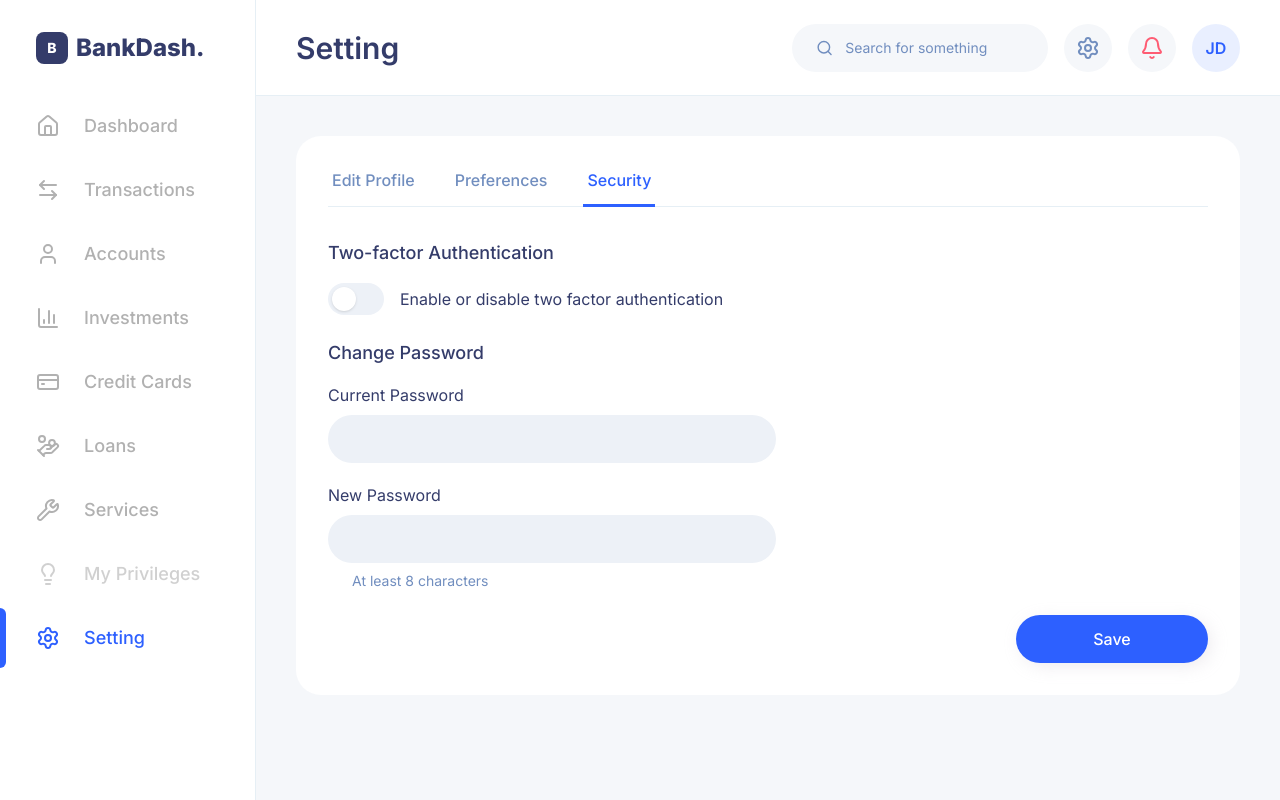
Test case: Settings › Security › saves the two-factor flag and reloads the user
This screenshot has width=1280, height=800.
What coordinates should you click on to do the following:
click the switch named "Enable or disable two factor authentication"
I would click on:
 (356, 299)
Its box is [328,283,384,315].
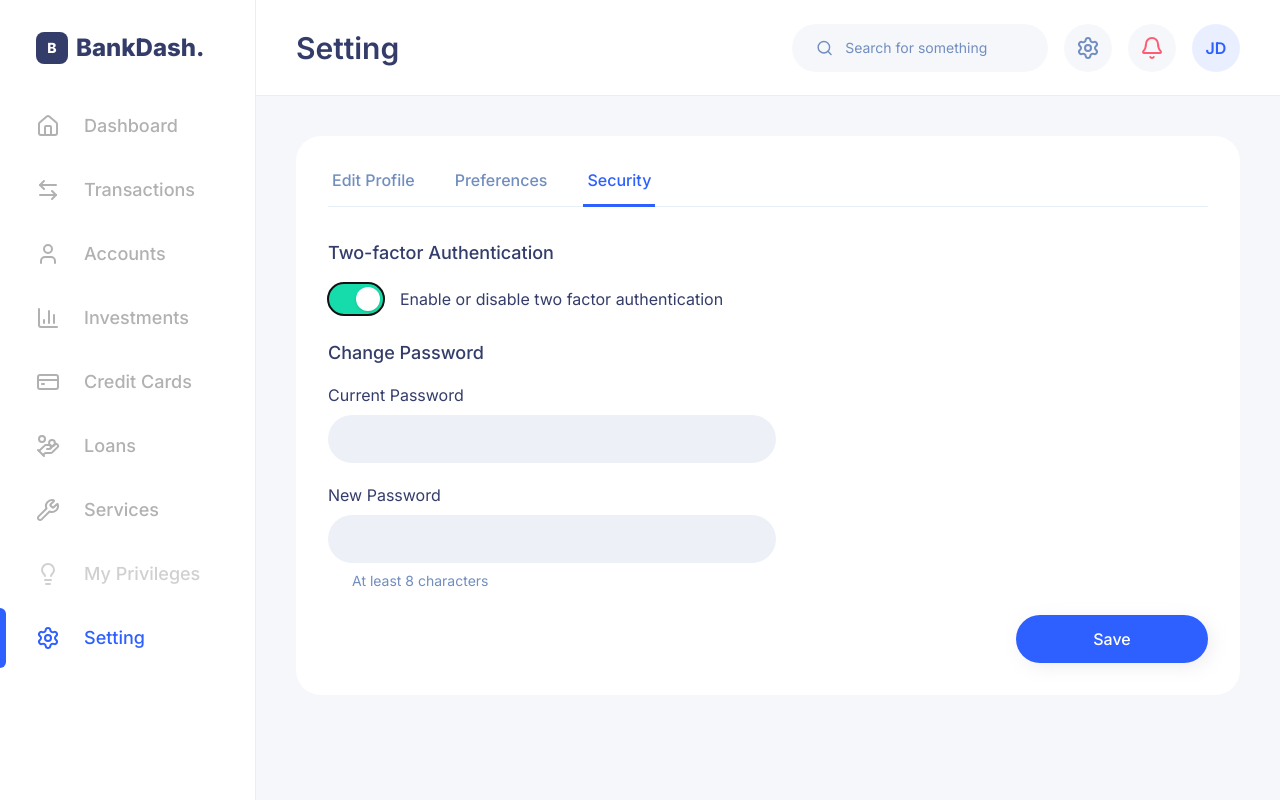
What coordinates should you click on to do the following:
click the button "Save"
I would click on:
 (1112, 639)
Its box is [1016,615,1208,663].
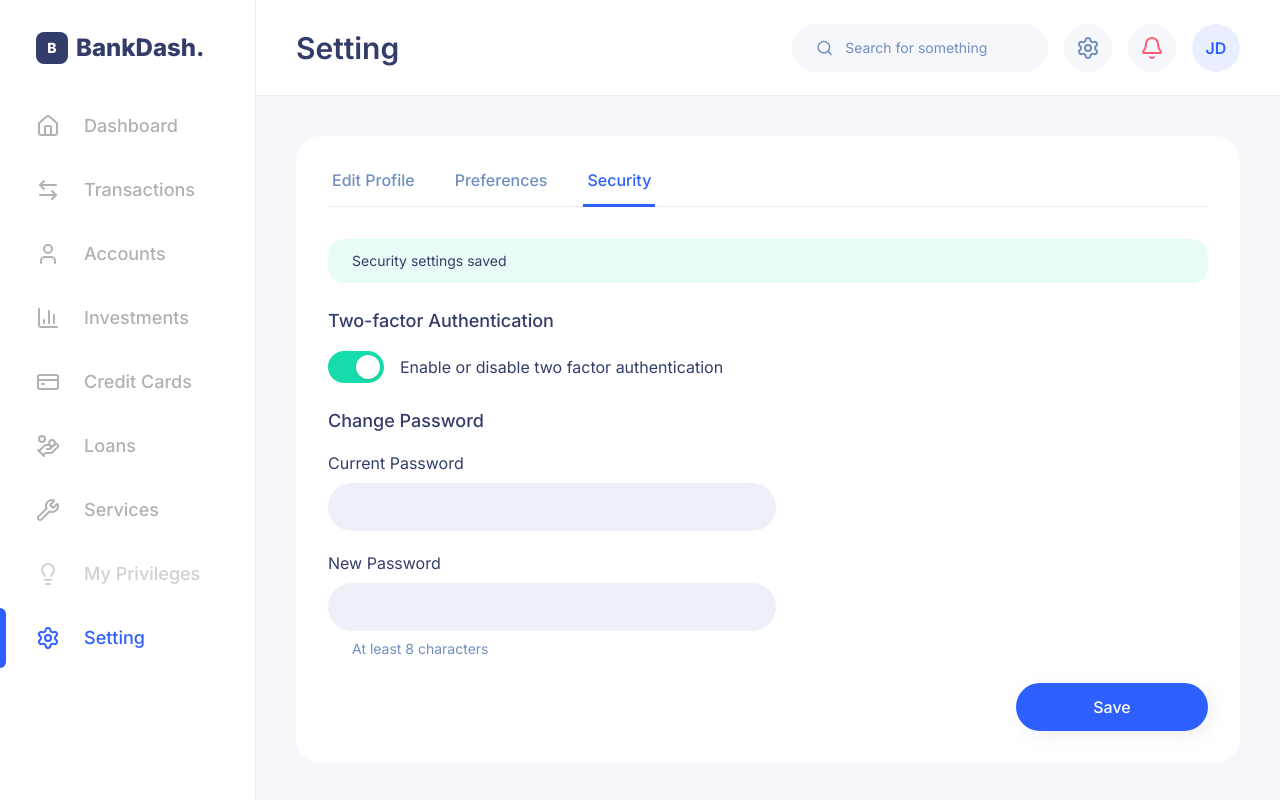
Expected: the message reads "Security settings saved", [352,252,506,269]
